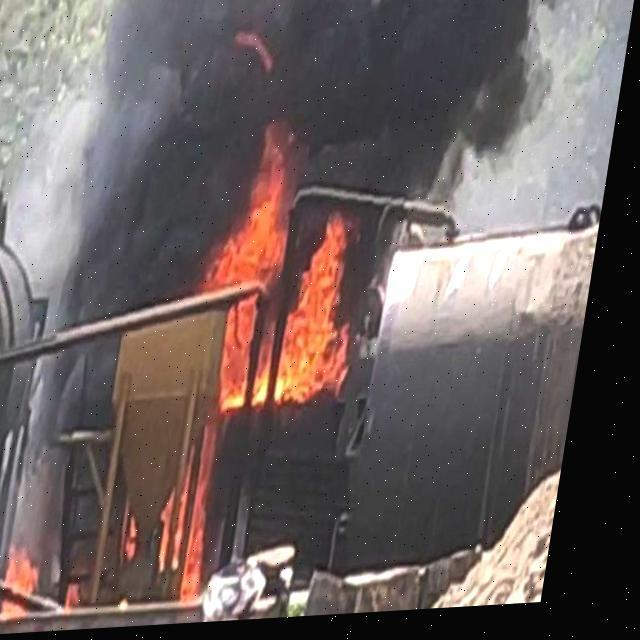Fire: (154, 122, 396, 438), (11, 540, 66, 610)
